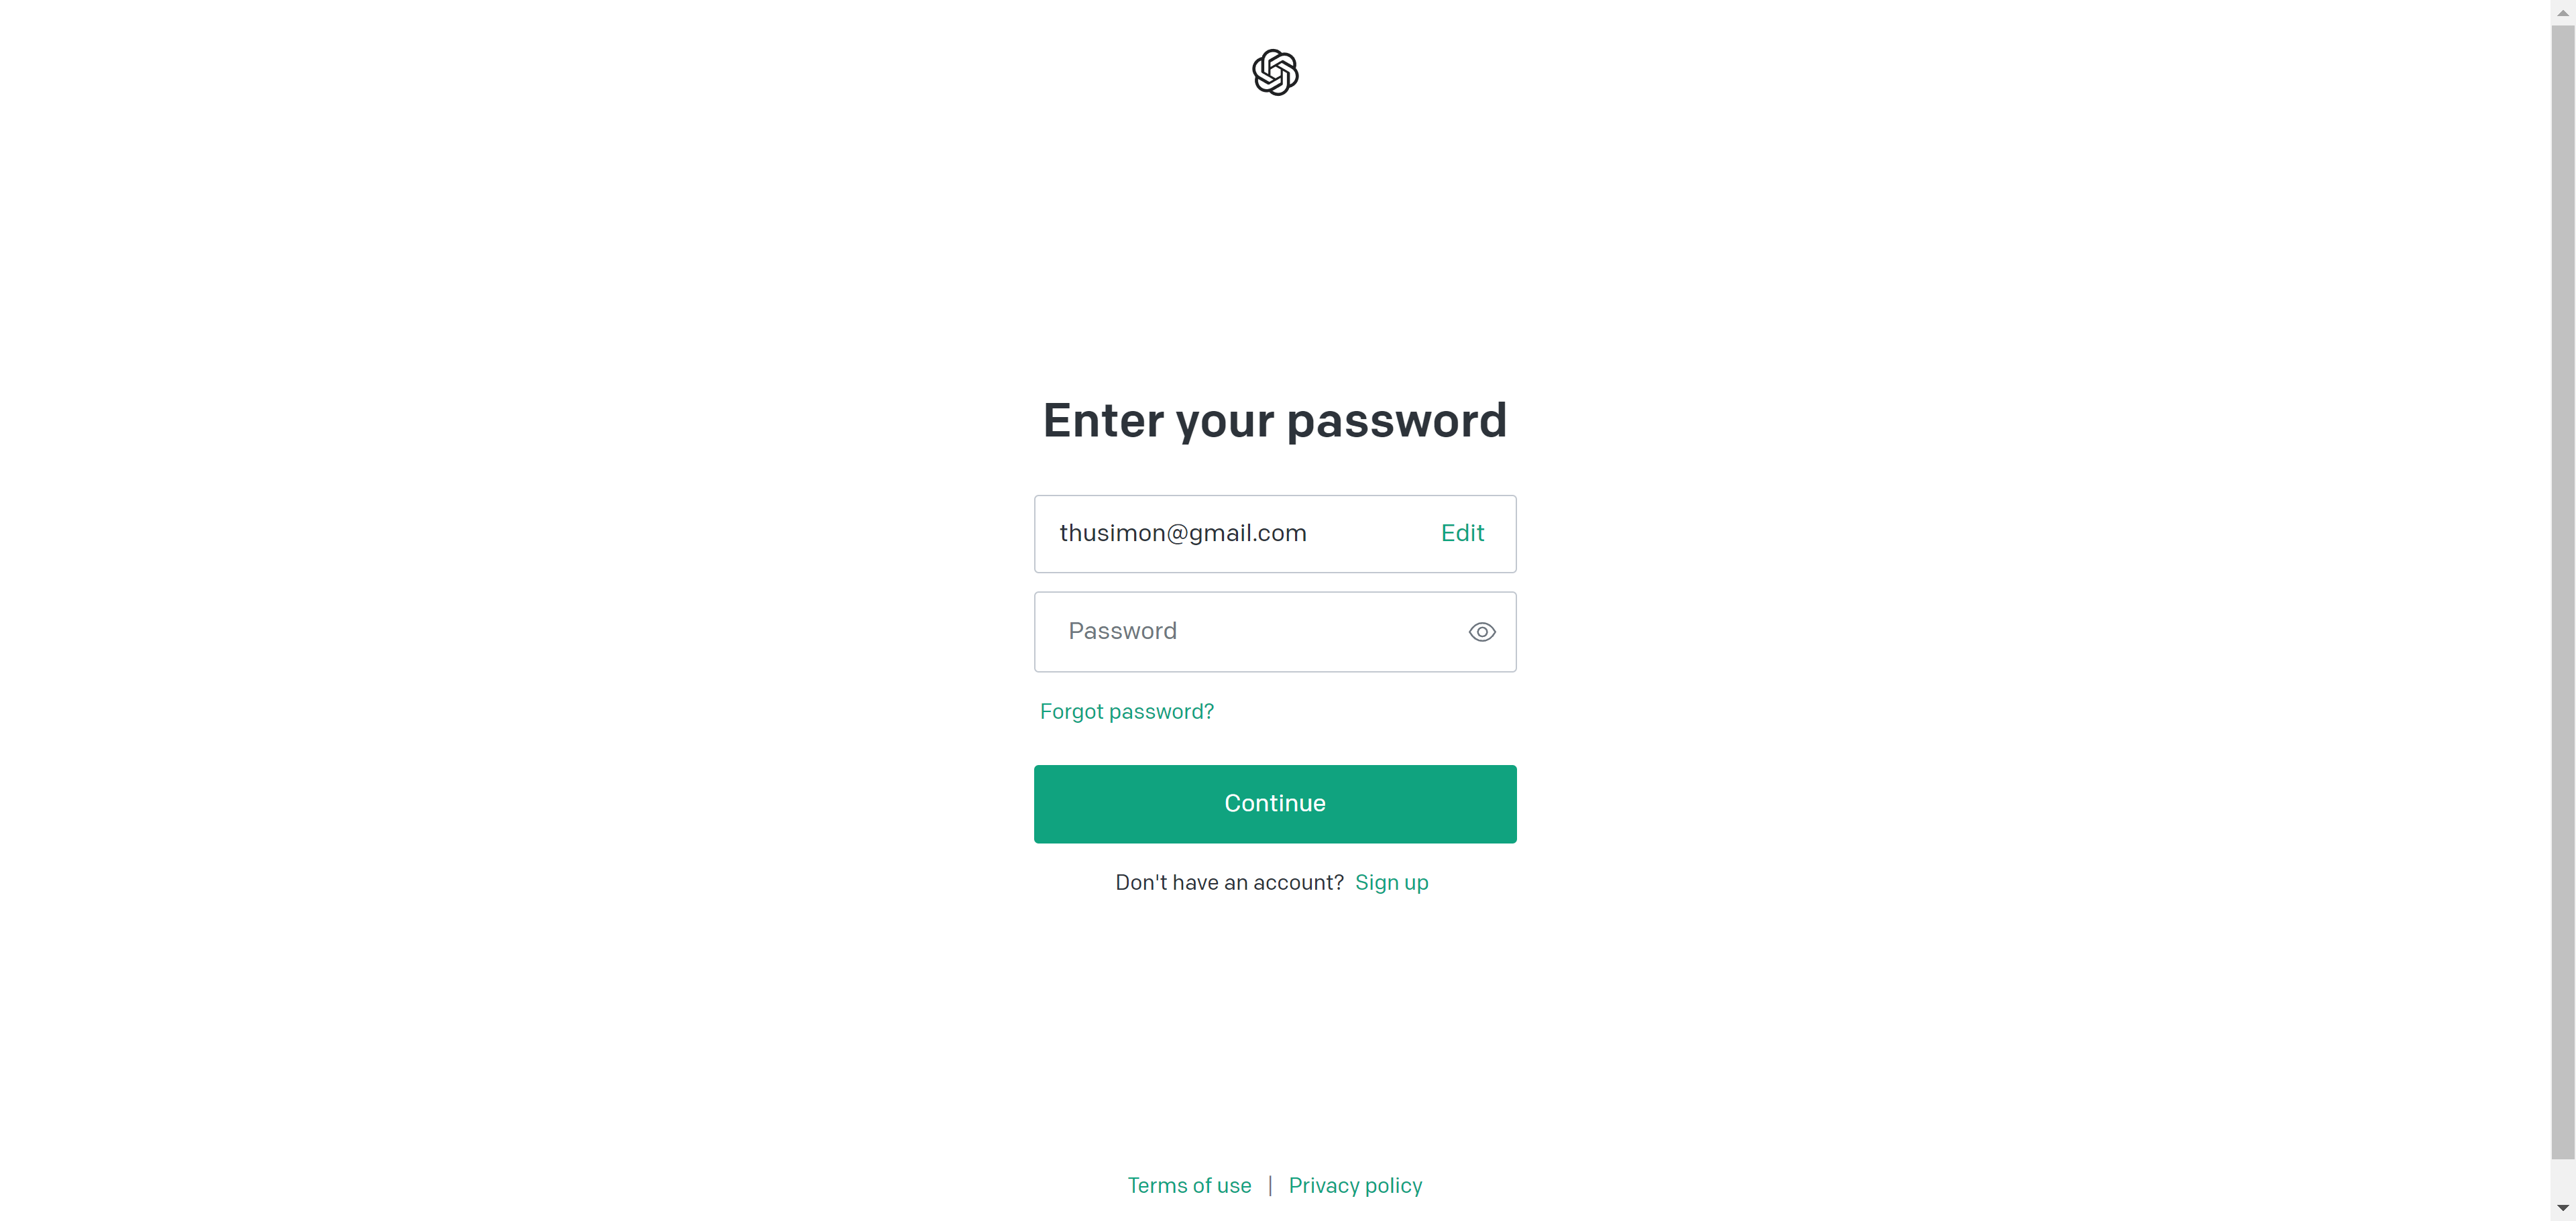login_button: (1033, 766, 1516, 843)
login_form: (1022, 485, 1529, 855)
